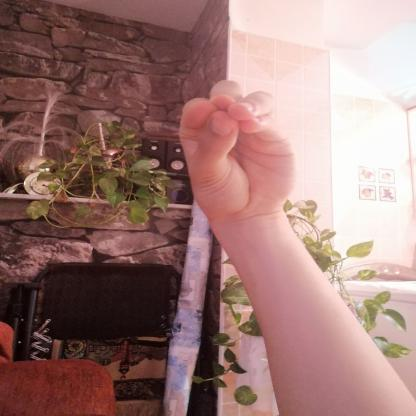HA: (161, 71, 318, 238)
